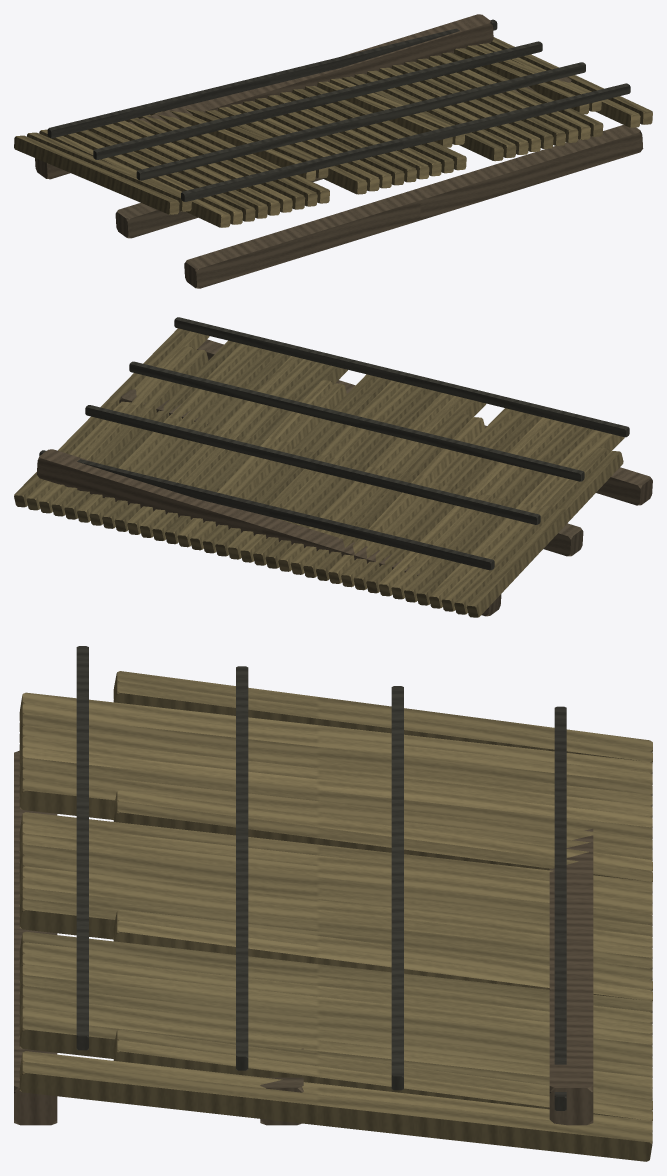
Rendered from cataclysm_fen_roof.glb.
3 renders of one model, top to bottom at view 1: azimuth 30°, elevation 25°; view 2: azimuth 150°, elevation 25°; view 3: azimuth 270°, elevation 25°, orthographic. The views are drawn at different scales.
Visible parts, largest first — view 1: cataclysm_fen_roof; view 2: cataclysm_fen_roof; view 3: cataclysm_fen_roof.
Boxes of the visible parts, bbox=[...] form: cataclysm_fen_roof: bbox=[14, 14, 652, 288]; cataclysm_fen_roof: bbox=[14, 317, 652, 617]; cataclysm_fen_roof: bbox=[14, 646, 652, 1161].
Size of the model in its own units: 2.65 by 0.4434 by 1.77.
Materials: 2 (2 with a texture image).
